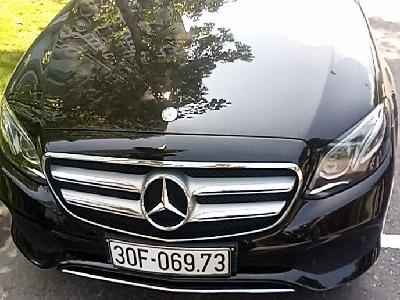car: (106, 240, 231, 278)
